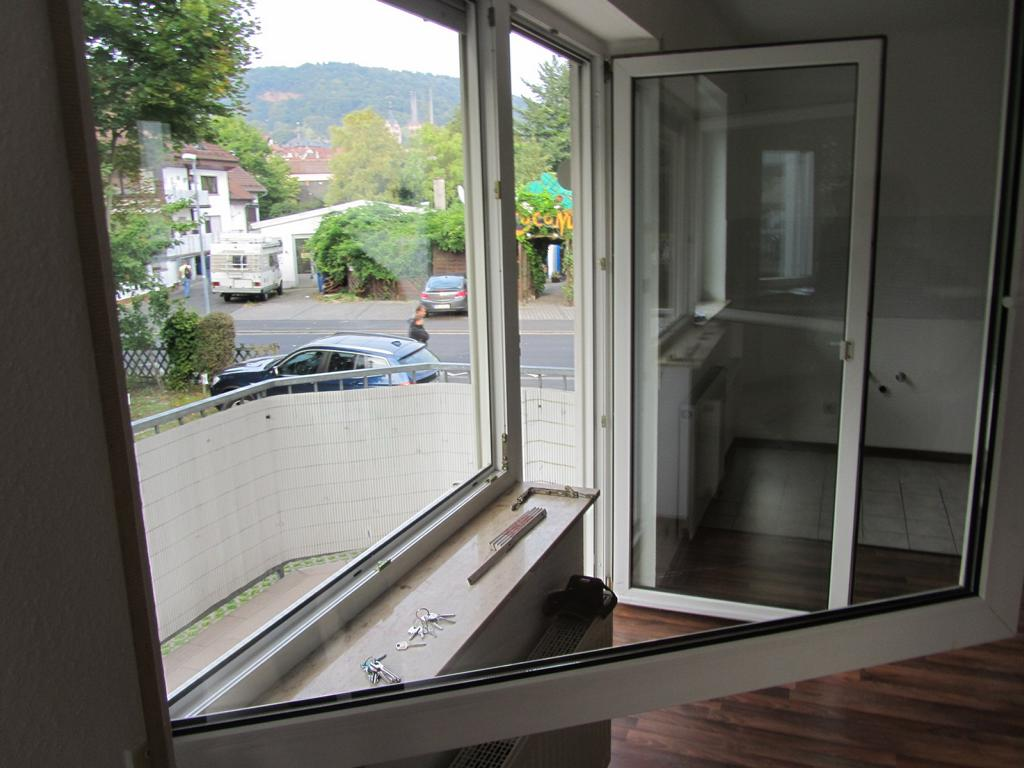windows: (55, 5, 996, 671)
